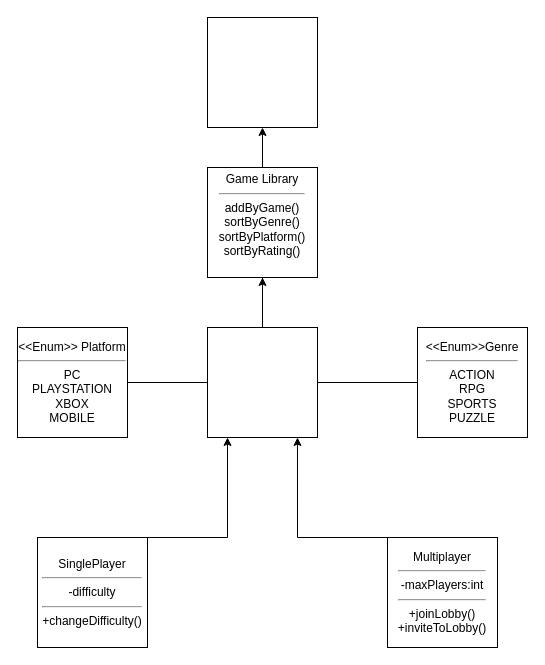
The diagram is 545 pixels wide and 665 high, and some of its shapes have lost their labels. Each missing label, with the centre of its shape:
Game -title:string -platform:Platform +rating:double -genre:Genre: [262,382]
Main displayLibrary launchGame: [262,72]
